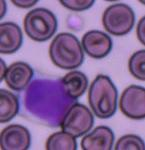L: (14, 73, 76, 127)
